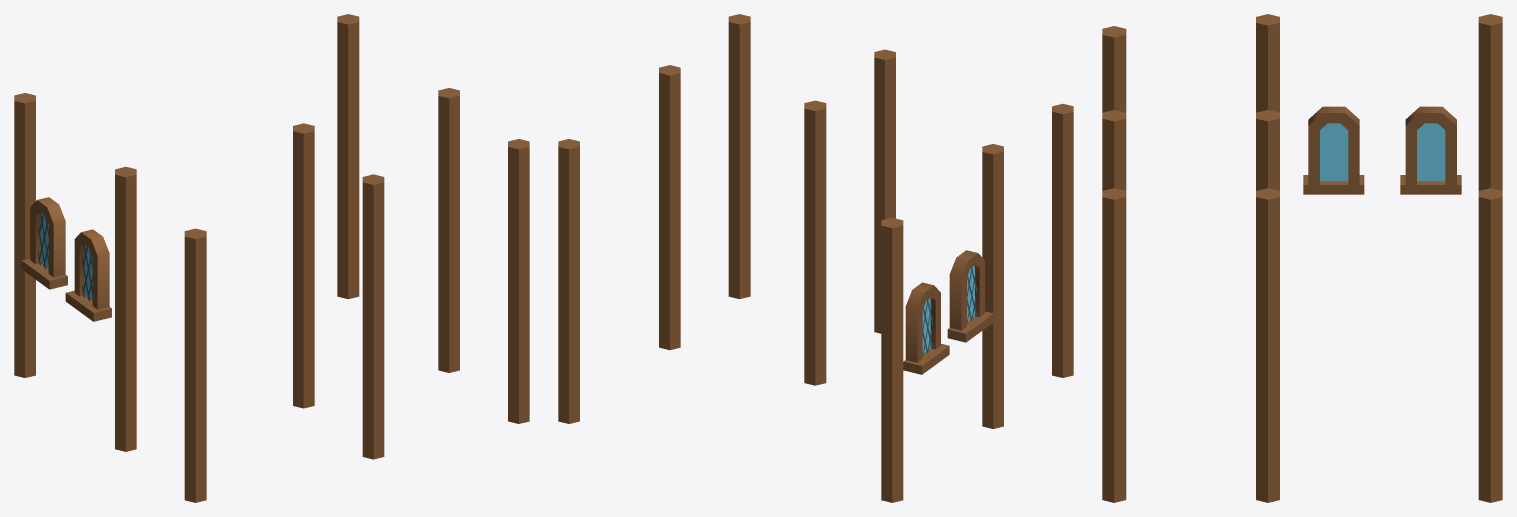
3 views of the same model, side by side, from view 1: azimuth 30°, elevation 25°; view 2: azimuth 150°, elevation 25°; view 3: azimuth 270°, elevation 25° (orthographic). The views are drawn at different scales.
Visible parts, largest first — view 1: Cylinder1738_brown_0, Plane428_brown_0, Plane425_brown_0, Box15723_brown_0, Box15724_brown_0; view 2: Cylinder1738_brown_0, Plane425_brown_0, Plane428_brown_0, Box15723_brown_0, Box15724_brown_0; view 3: Cylinder1738_brown_0, Plane428_brown_0, Plane425_brown_0, Plane427_mirror_0, Plane430_mirror_0, Box15724_brown_0, Box15723_brown_0.
Part boxes in pixels (x1,y1,x2,y2): Cylinder1738_brown_0: (14,14,529,502); Plane428_brown_0: (74,229,109,309); Plane425_brown_0: (30,197,65,277); Box15723_brown_0: (21,258,67,289); Box15724_brown_0: (65,290,111,321); Cylinder1738_brown_0: (558,14,1073,502); Plane425_brown_0: (905,282,940,362); Plane428_brown_0: (949,250,984,330); Box15723_brown_0: (903,343,949,374); Box15724_brown_0: (947,311,993,342); Cylinder1738_brown_0: (1102,14,1502,502); Plane428_brown_0: (1308,106,1359,185); Plane425_brown_0: (1405,106,1456,185); Plane427_mirror_0: (1417,123,1445,181); Plane430_mirror_0: (1320,123,1348,181); Box15724_brown_0: (1303,175,1364,194); Box15723_brown_0: (1400,175,1461,194).
Size of the model in its own units: 586 by 439 by 525.
